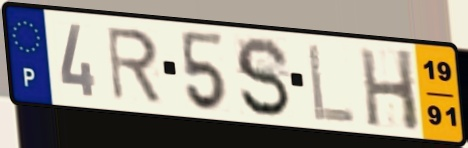4: (58, 22, 97, 98)
5: (177, 27, 230, 113)
H: (356, 46, 423, 135)
L: (305, 41, 358, 126)
R: (103, 25, 164, 105)
S: (232, 34, 294, 120)
